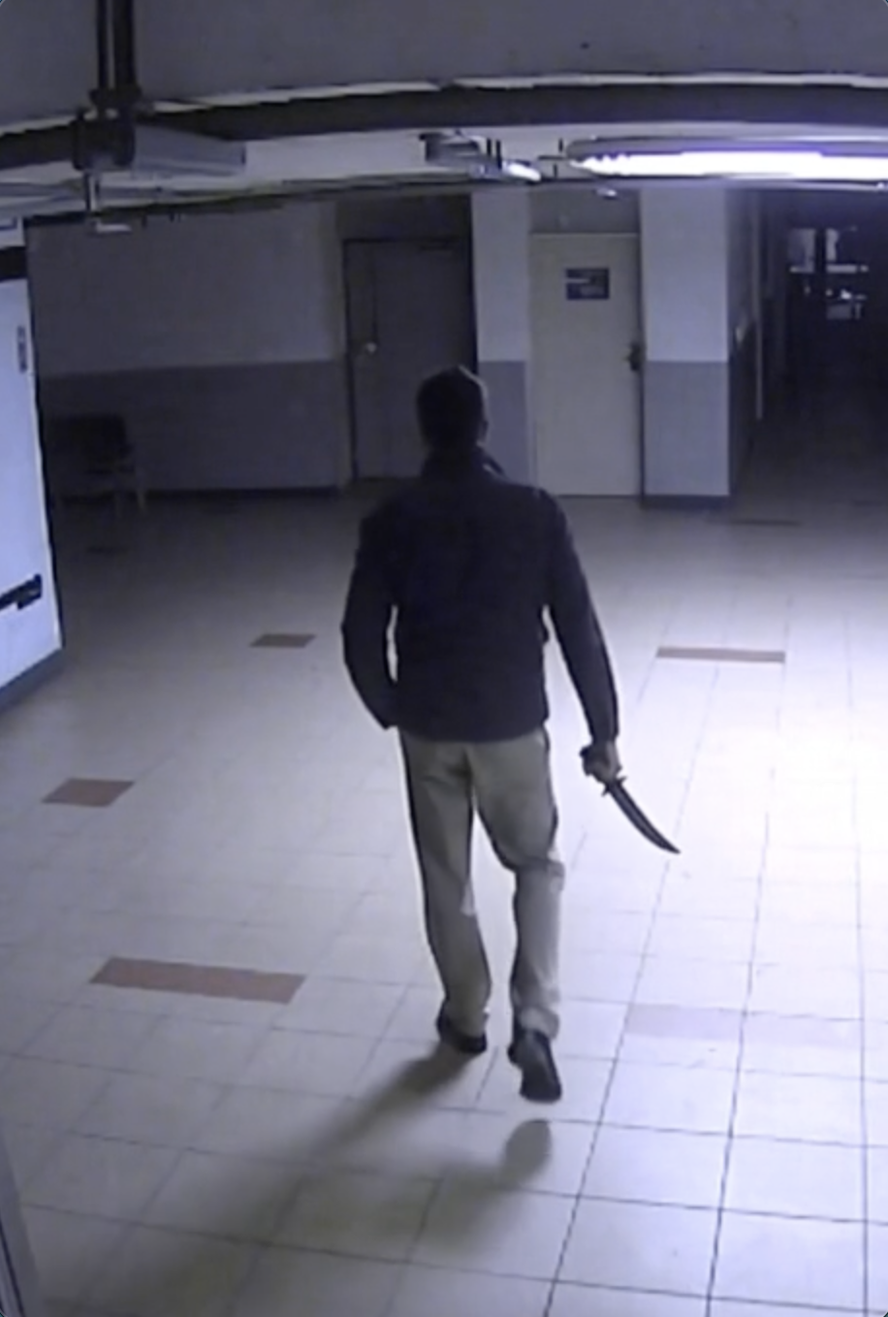Heavy Gun: (335, 359, 625, 1107)
Knife: (582, 736, 690, 860)
